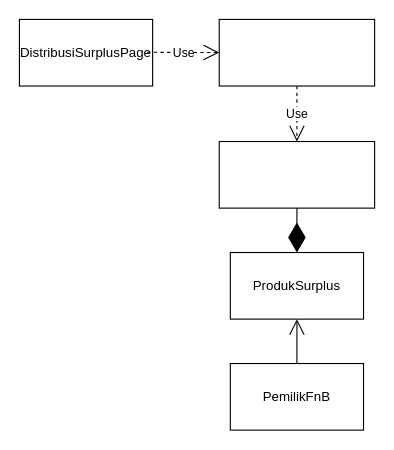
Some shapes in this 394 by 450 pixel diagram are drawn without their labels. The centre of each missing label's shape, as x and y in pixels:
"MetodeDistribusiSurplus" goes at point (296, 174).
"ProdukSurplusController" goes at point (296, 52).
